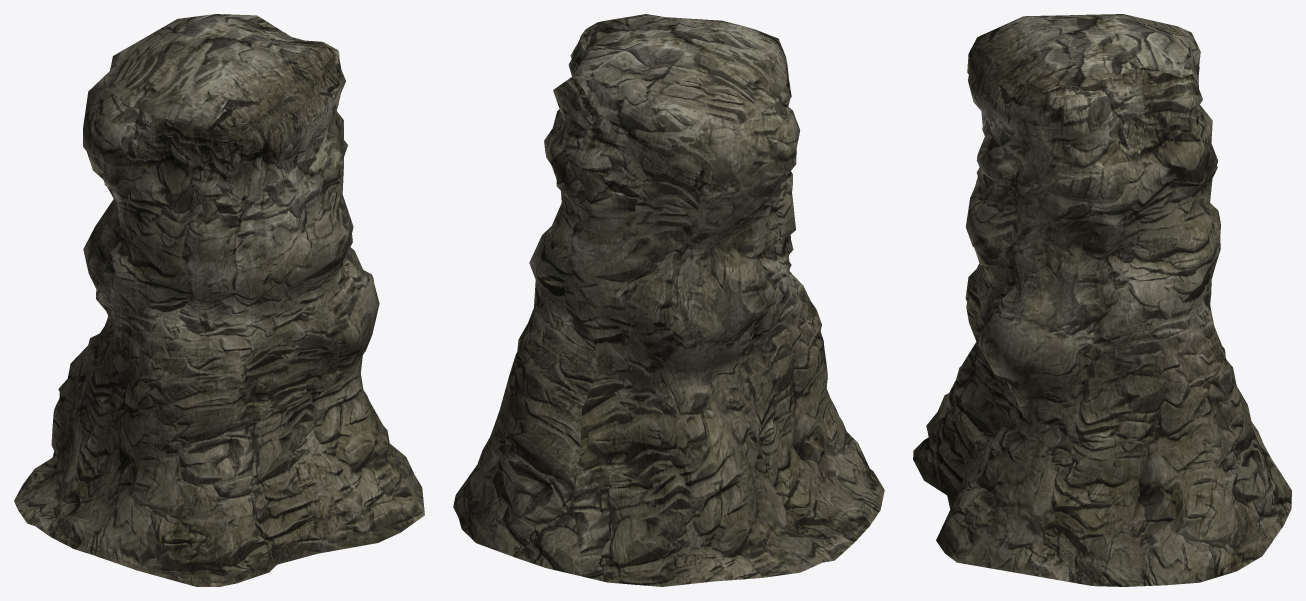
File: MEP_Cliff_07.fbx
3 renders of one model, left to right at view 1: azimuth 30°, elevation 25°; view 2: azimuth 150°, elevation 25°; view 3: azimuth 270°, elevation 25°, orthographic. The views are drawn at different scales.
Visible parts, largest first — view 1: MEP_Desert_Cliff_07; view 2: MEP_Desert_Cliff_07; view 3: MEP_Desert_Cliff_07.
Boxes of the visible parts, x1,y1,x2,y2 form: MEP_Desert_Cliff_07: [14, 14, 424, 586]; MEP_Desert_Cliff_07: [453, 14, 884, 586]; MEP_Desert_Cliff_07: [913, 14, 1291, 586].
Size of what is drawn, in the model's own units: 1658 by 2103 by 1499.
Materials: 1 (1 with a texture image).
